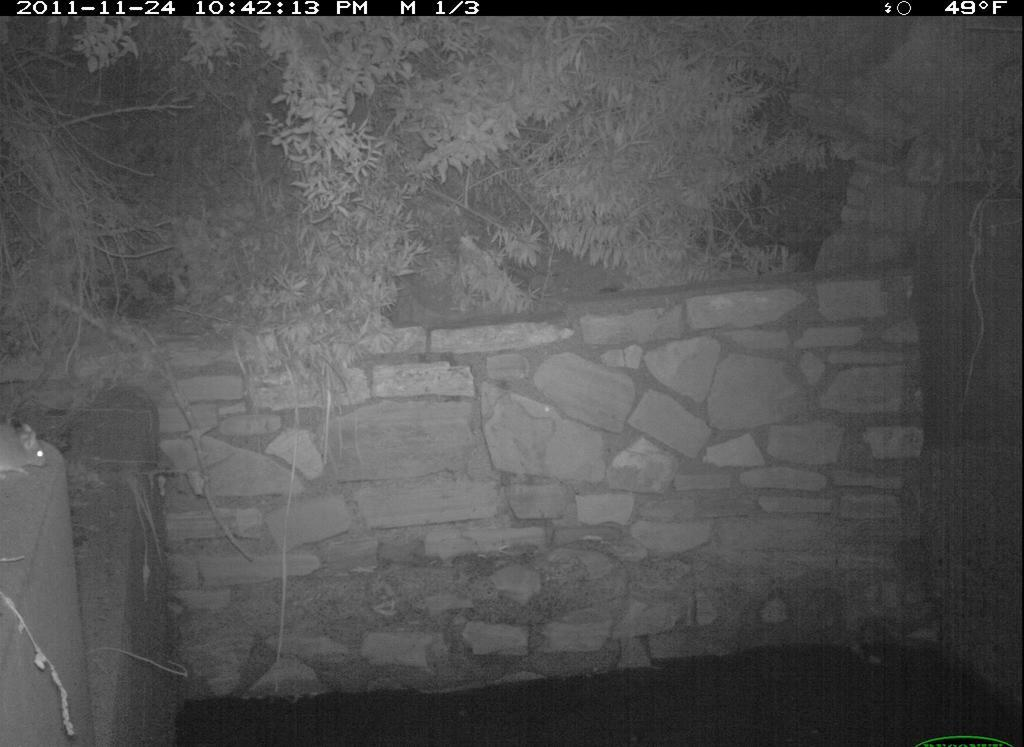rodent: (1, 411, 50, 481)
